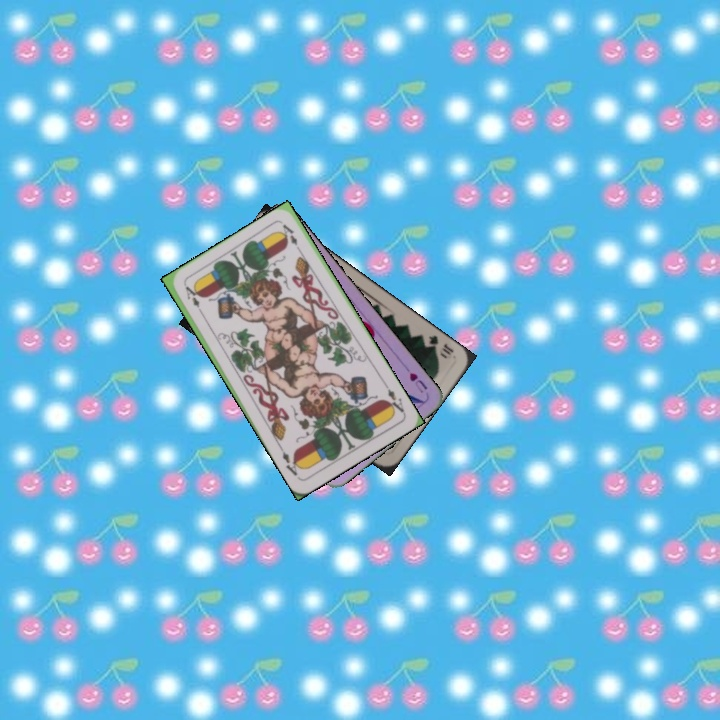EA: (380, 380, 407, 417), (181, 282, 206, 318)
G10: (424, 331, 456, 358)
HU: (405, 369, 430, 396)
